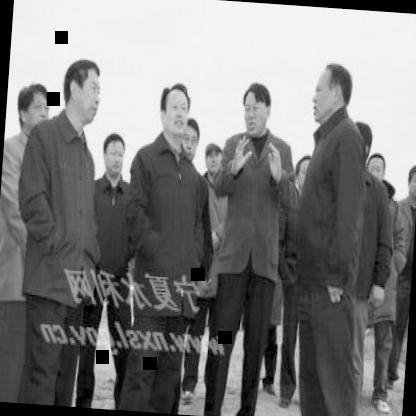head: (308, 55, 358, 130), (59, 53, 107, 125), (156, 77, 192, 146), (12, 79, 54, 138), (238, 78, 275, 139), (98, 128, 130, 182), (345, 119, 375, 169), (177, 112, 202, 167), (292, 146, 316, 198), (366, 150, 390, 192), (200, 137, 224, 177), (403, 159, 416, 202)
